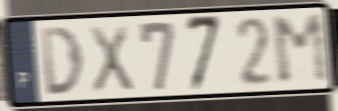2: (233, 14, 275, 89)
7: (185, 13, 224, 96), (136, 20, 177, 93)
D: (38, 24, 86, 99)
M: (268, 10, 334, 88)
X: (87, 22, 136, 96)
